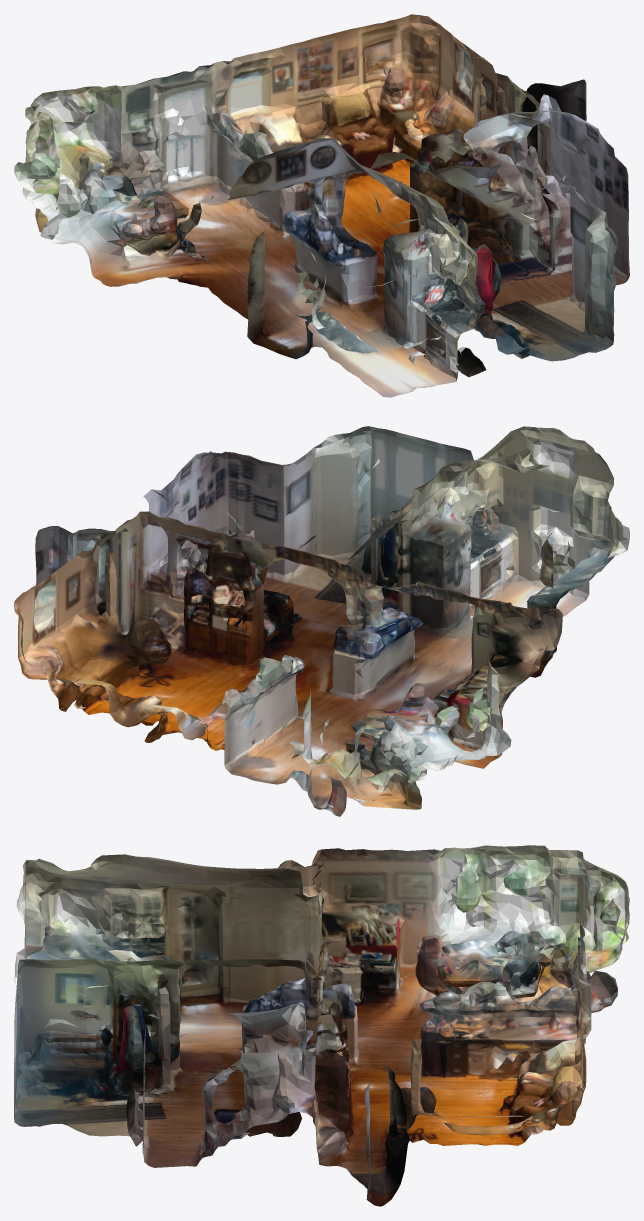
Rendered from gaskin.glb.
3 views of the same model, one above another, from view 1: azimuth 30°, elevation 25°; view 2: azimuth 150°, elevation 25°; view 3: azimuth 270°, elevation 25° (orthographic). The views are drawn at different scales.
Size of the model in its own units: 10.2 by 3.39 by 10.46.
Materials: 1 (1 with a texture image).
